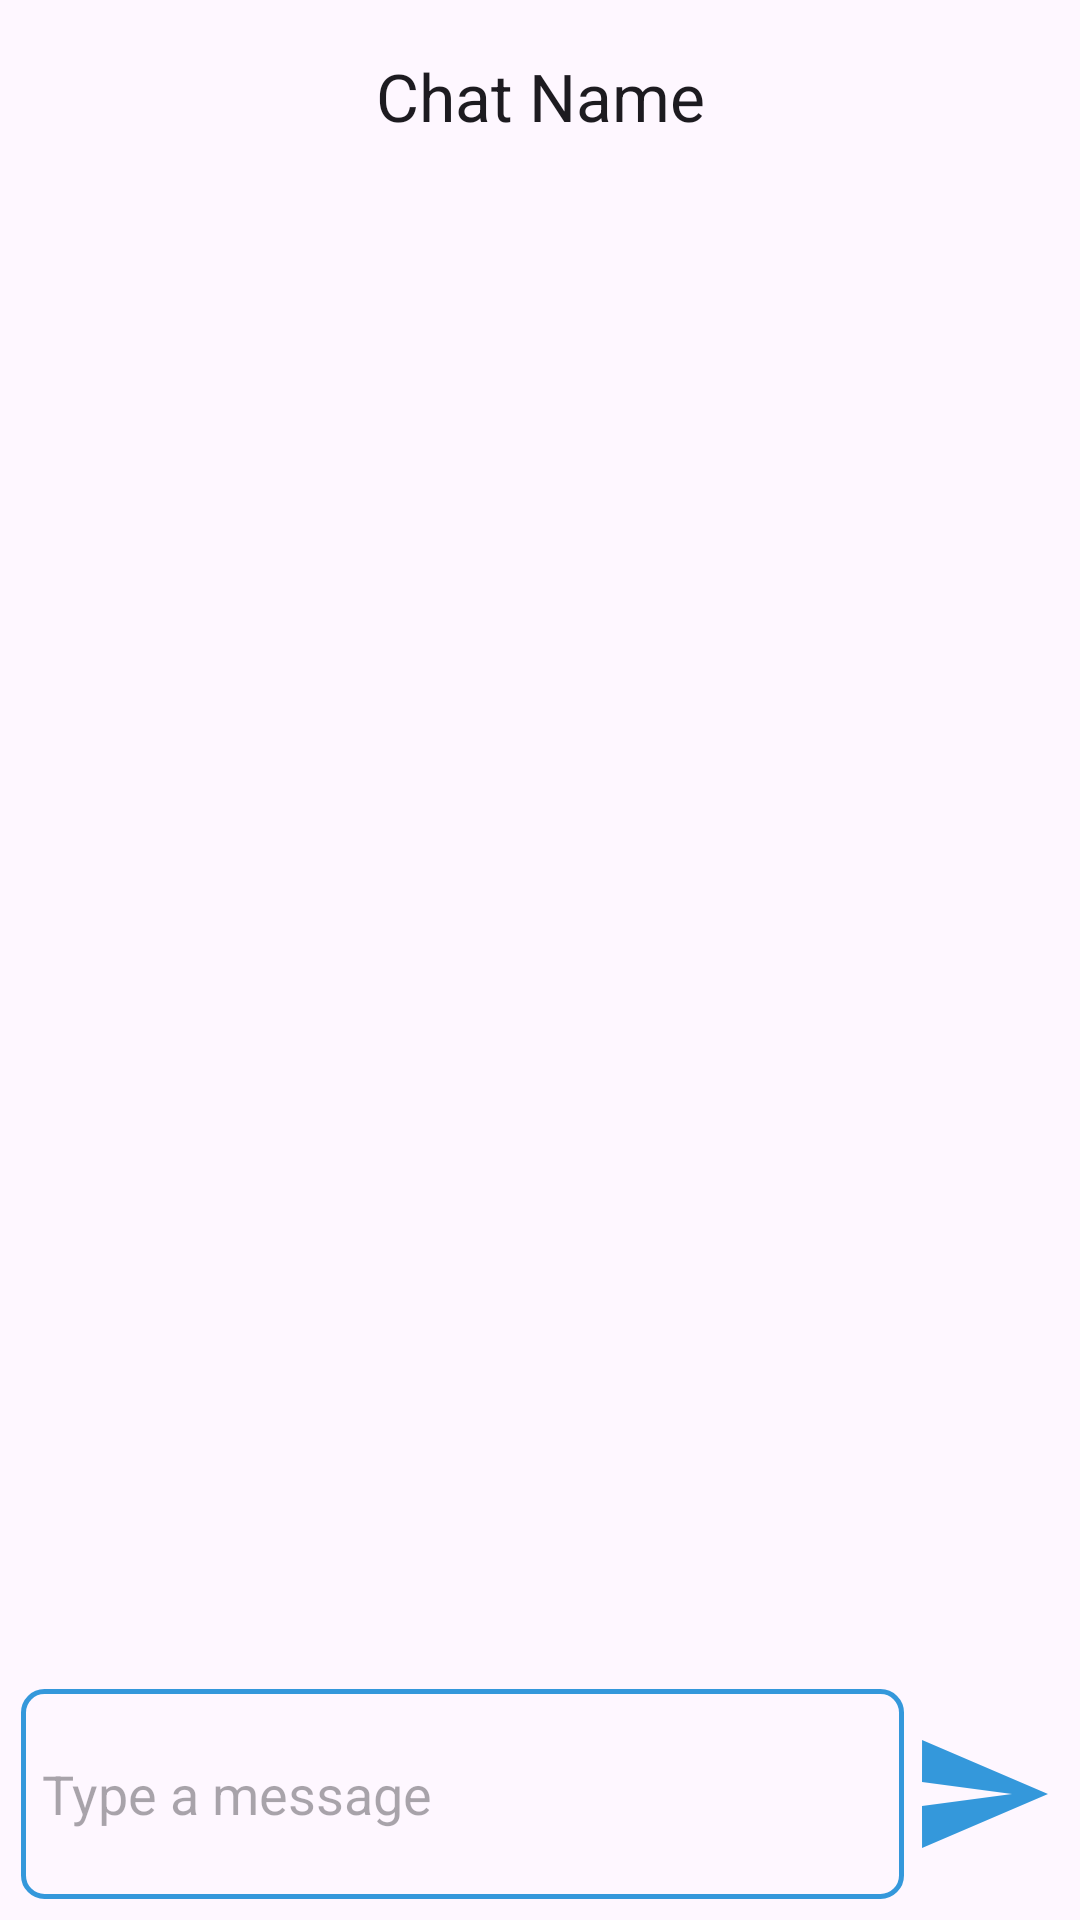

Icons on this 1080 x 1920 Android screen, each with the point to tap as (x,y):
send: (985,1794)
